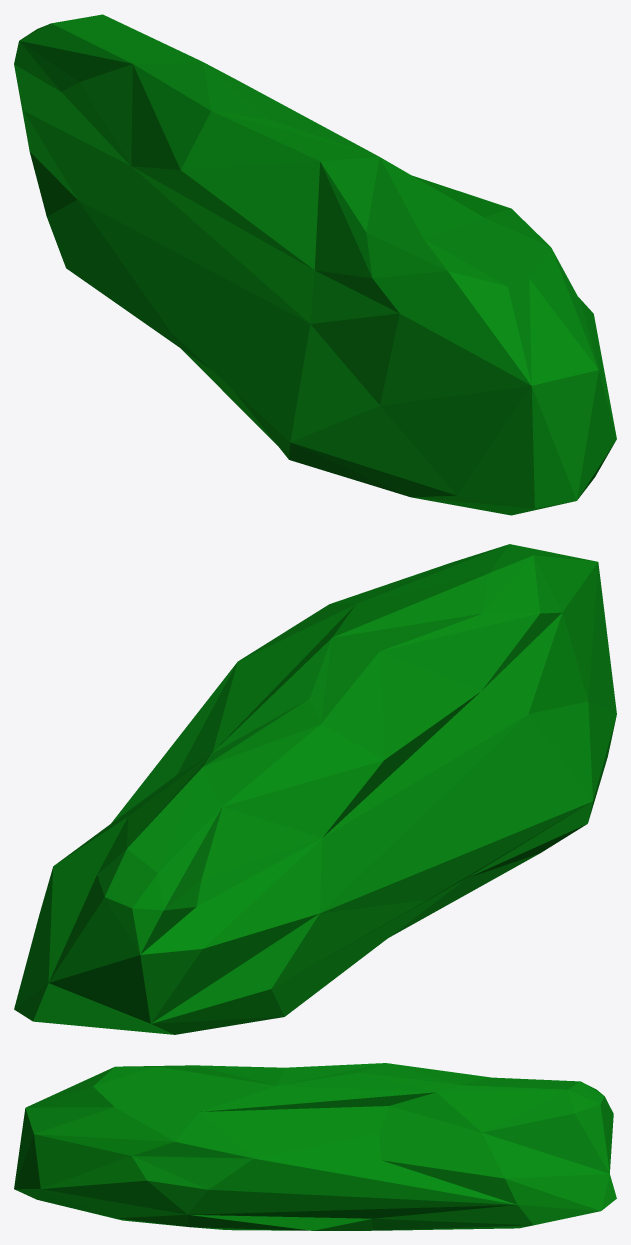
File: SM_LongBush.fbx
The picture shows the model from 3 angles, top to bottom: view 1: azimuth 30°, elevation 25°; view 2: azimuth 150°, elevation 25°; view 3: azimuth 270°, elevation 25°; orthographic projection. The views are drawn at different scales.
Parts seen in each view (by area): view 1: pCylinder4; view 2: pCylinder4; view 3: pCylinder4.
Boxes of the visible parts, box(x1,y1,x2,y2) form: pCylinder4: box(14, 14, 616, 515); pCylinder4: box(14, 544, 616, 1034); pCylinder4: box(14, 1063, 616, 1230).
Bounding box in the file's own units: 274 × 198 × 789.
